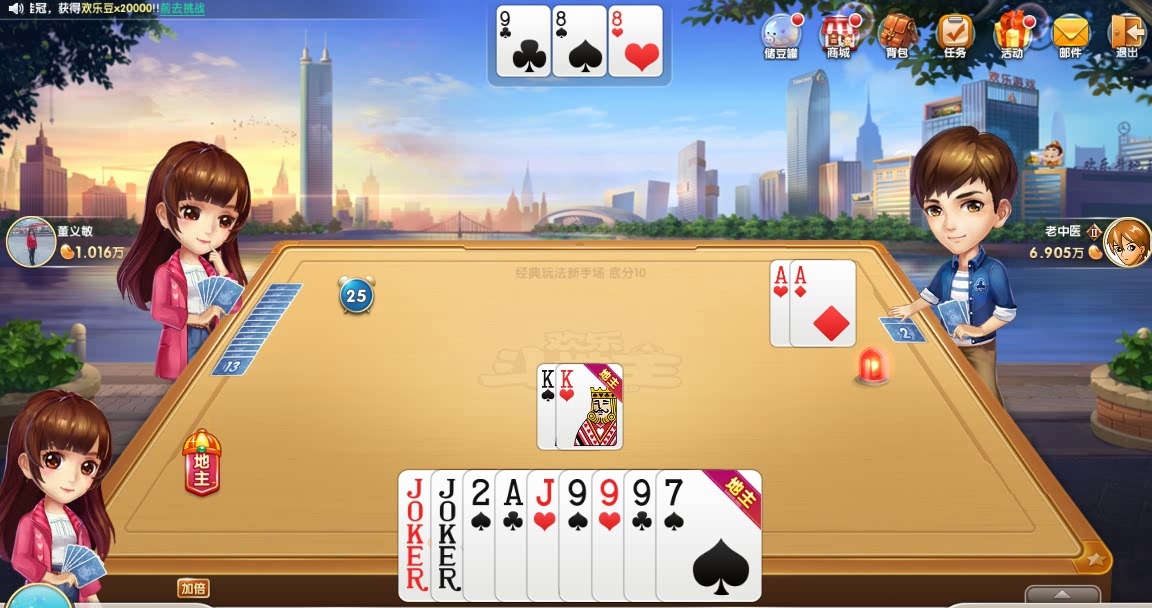11~3: (526, 469, 634, 601)
13~3: (557, 364, 624, 450)
13~4: (538, 363, 605, 449)
14~1: (790, 260, 856, 347)
14~2: (493, 469, 601, 601)
14~3: (770, 260, 836, 347)
15~4: (461, 470, 569, 602)
17~3: (430, 469, 538, 601)
18~4: (398, 469, 506, 601)
7~4: (655, 470, 763, 602)
8~3: (606, 5, 662, 76)
8~4: (551, 5, 607, 76)
9~2: (622, 469, 730, 601), (495, 5, 551, 76)
9~3: (591, 468, 699, 600)
9~4: (559, 469, 667, 601)
